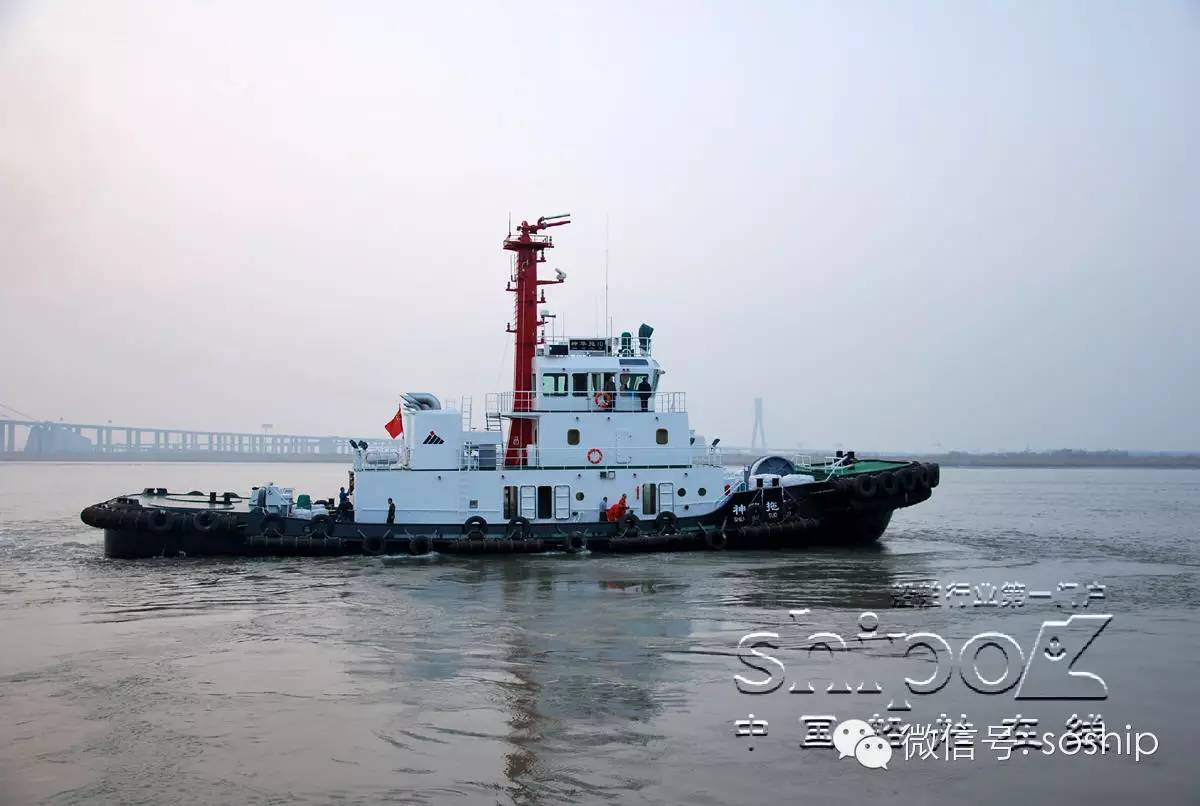otherboat: (82, 216, 949, 571)
